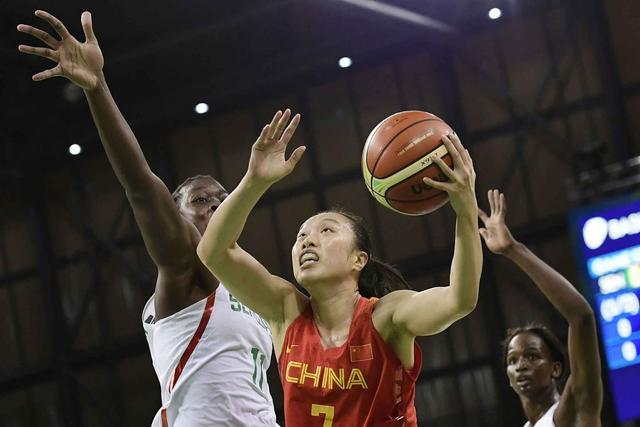ball: (360, 109, 466, 219)
